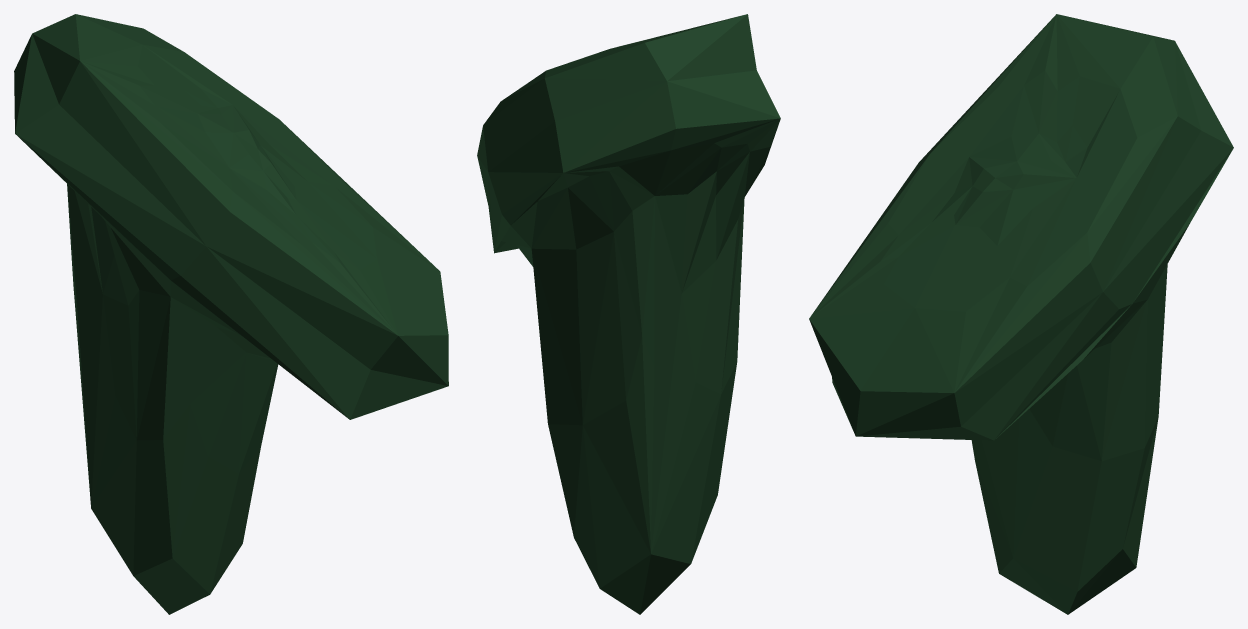
3 views of the same model, side by side, from view 1: azimuth 30°, elevation 25°; view 2: azimuth 150°, elevation 25°; view 3: azimuth 270°, elevation 25° (orthographic). The views are drawn at different scales.
Visible parts, largest first — view 1: 698_Cube.2802; view 2: 698_Cube.2802; view 3: 698_Cube.2802.
Boxes of the visible parts, box(x1,y1,x2,y2) form: 698_Cube.2802: box(14, 14, 448, 614); 698_Cube.2802: box(477, 14, 780, 614); 698_Cube.2802: box(809, 14, 1233, 614).
Bounding box in the file's own units: 9.02 × 14.13 × 9.78.
